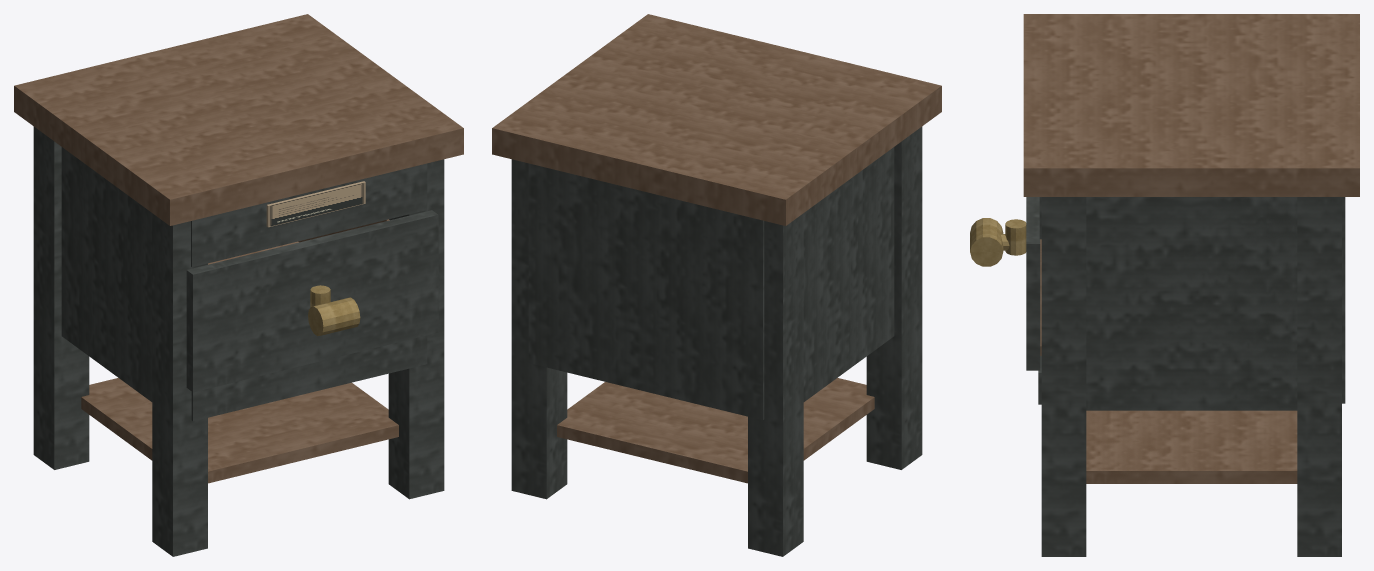
The model's file is ProjectZ_BED26_Nightstand_SlidingDrawer.glb.
3 views of the same model, side by side, from view 1: azimuth 30°, elevation 25°; view 2: azimuth 150°, elevation 25°; view 3: azimuth 270°, elevation 25° (orthographic). The views are drawn at different scales.
Parts seen in each view (by area): view 1: RENDER_Table_OakTop_Overhang, RENDER_Drawer_OakFrontPanel, RENDER_Table_Left_CaseSide, RENDER_Table_LowShelf, RENDER_Table_SolidCornerLeg_1_1, RENDER_Table_SolidCornerLeg_1_2, RENDER_Table_SolidCornerLeg_2_1, RENDER_Table_DrawerCavityHeader, RENDER_Table_FrontLowerApron, RENDER_Table_FictionalHolloway_Badge, RENDER_Drawer_BrassKnob_RoundedGrip; view 2: RENDER_Table_OakTop_Overhang, RENDER_Table_CaseBack, RENDER_Table_Left_CaseSide, RENDER_Table_SolidCornerLeg_1_2, RENDER_Table_LowShelf, RENDER_Table_SolidCornerLeg_1_1, RENDER_Table_SolidCornerLeg_2_2; view 3: RENDER_Table_OakTop_Overhang, RENDER_Table_Right_CaseSide, RENDER_Table_SolidCornerLeg_2_1, RENDER_Table_SolidCornerLeg_2_2, RENDER_Table_LowShelf, RENDER_Drawer_OakFrontPanel, RENDER_Drawer_BrassKnob_RoundedGrip, RENDER_Table_CaseBack, RENDER_Drawer_BrassKnob_Stem.
Part boxes in pixels (x1,y1,x2,y2): RENDER_Table_OakTop_Overhang: (14, 14, 463, 225); RENDER_Drawer_OakFrontPanel: (186, 210, 438, 392); RENDER_Table_Left_CaseSide: (61, 147, 152, 401); RENDER_Table_LowShelf: (81, 378, 398, 483); RENDER_Table_SolidCornerLeg_1_1: (152, 213, 207, 556); RENDER_Table_SolidCornerLeg_1_2: (33, 126, 89, 469); RENDER_Table_SolidCornerLeg_2_1: (388, 159, 444, 499); RENDER_Table_DrawerCavityHeader: (191, 163, 427, 267); RENDER_Table_FrontLowerApron: (191, 335, 427, 421); RENDER_Table_FictionalHolloway_Badge: (266, 181, 365, 227); RENDER_Drawer_BrassKnob_RoundedGrip: (308, 297, 360, 336); RENDER_Table_OakTop_Overhang: (492, 14, 941, 225); RENDER_Table_CaseBack: (528, 163, 764, 420); RENDER_Table_Left_CaseSide: (803, 147, 894, 401); RENDER_Table_SolidCornerLeg_1_2: (748, 213, 803, 556); RENDER_Table_LowShelf: (557, 378, 874, 483); RENDER_Table_SolidCornerLeg_1_1: (866, 126, 922, 469); RENDER_Table_SolidCornerLeg_2_2: (511, 159, 567, 499); RENDER_Table_OakTop_Overhang: (1023, 14, 1359, 196); RENDER_Table_Right_CaseSide: (1086, 197, 1297, 410); RENDER_Table_SolidCornerLeg_2_1: (1041, 197, 1086, 556); RENDER_Table_SolidCornerLeg_2_2: (1297, 197, 1341, 556); RENDER_Table_LowShelf: (1086, 410, 1297, 483); RENDER_Drawer_OakFrontPanel: (1026, 197, 1040, 370); RENDER_Drawer_BrassKnob_RoundedGrip: (970, 218, 1003, 266); RENDER_Table_CaseBack: (1342, 197, 1345, 403); RENDER_Drawer_BrassKnob_Stem: (1005, 219, 1026, 255).
Bounding box in the file's own units: 0.572 × 0.681 × 0.61.
Materials: 5 (5 with a texture image).
